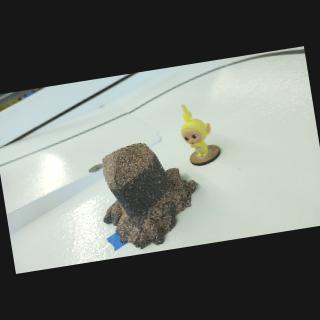teletubby: (181, 104, 211, 157)
